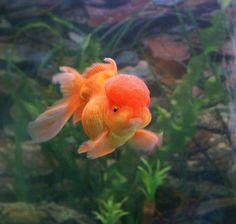goldfish: (50, 50, 164, 165)
